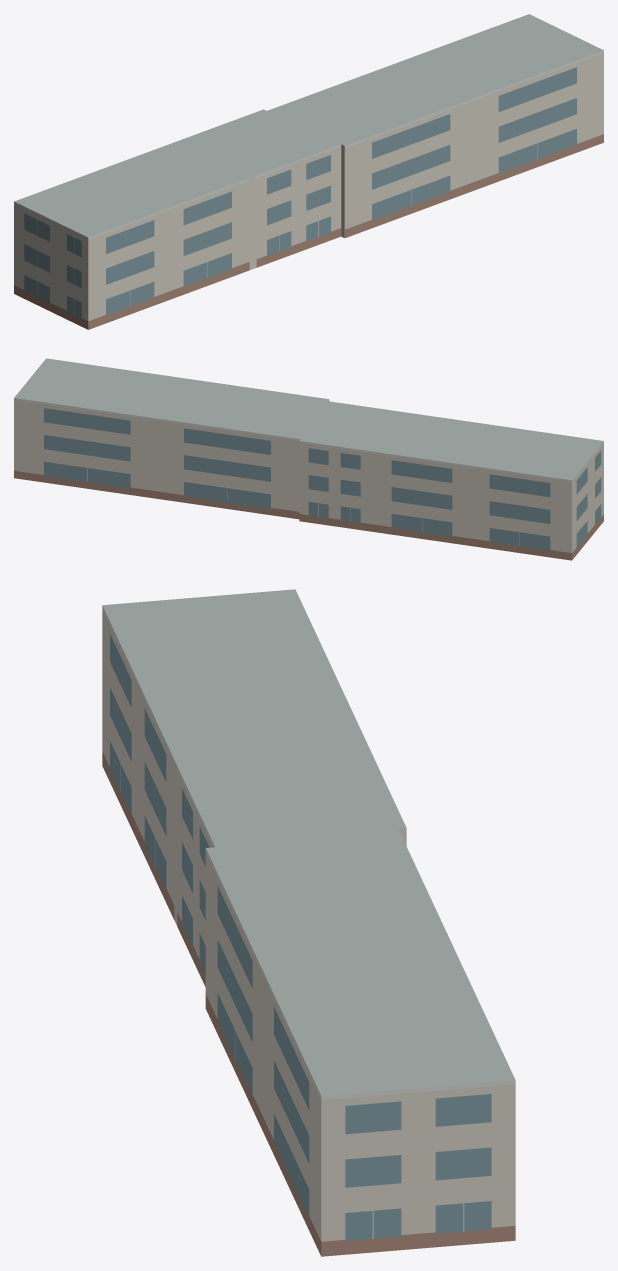
The model's file is survey-upis-32809313.glb.
3 views of the same model, one above another, from view 1: azimuth 30°, elevation 25°; view 2: azimuth 150°, elevation 25°; view 3: azimuth 270°, elevation 25° (orthographic). The views are drawn at different scales.
Parts seen in each view (by area): view 1: survey-upis-32809313.tmp; view 2: survey-upis-32809313.tmp; view 3: survey-upis-32809313.tmp.
Part boxes in pixels (x1=…): survey-upis-32809313.tmp: x1=14, y1=14, x2=603, y2=329; survey-upis-32809313.tmp: x1=14, y1=358, x2=603, y2=560; survey-upis-32809313.tmp: x1=102, y1=589, x2=515, y2=1256.
Size of the model in its own units: 61.93 by 9.15 by 21.35.
